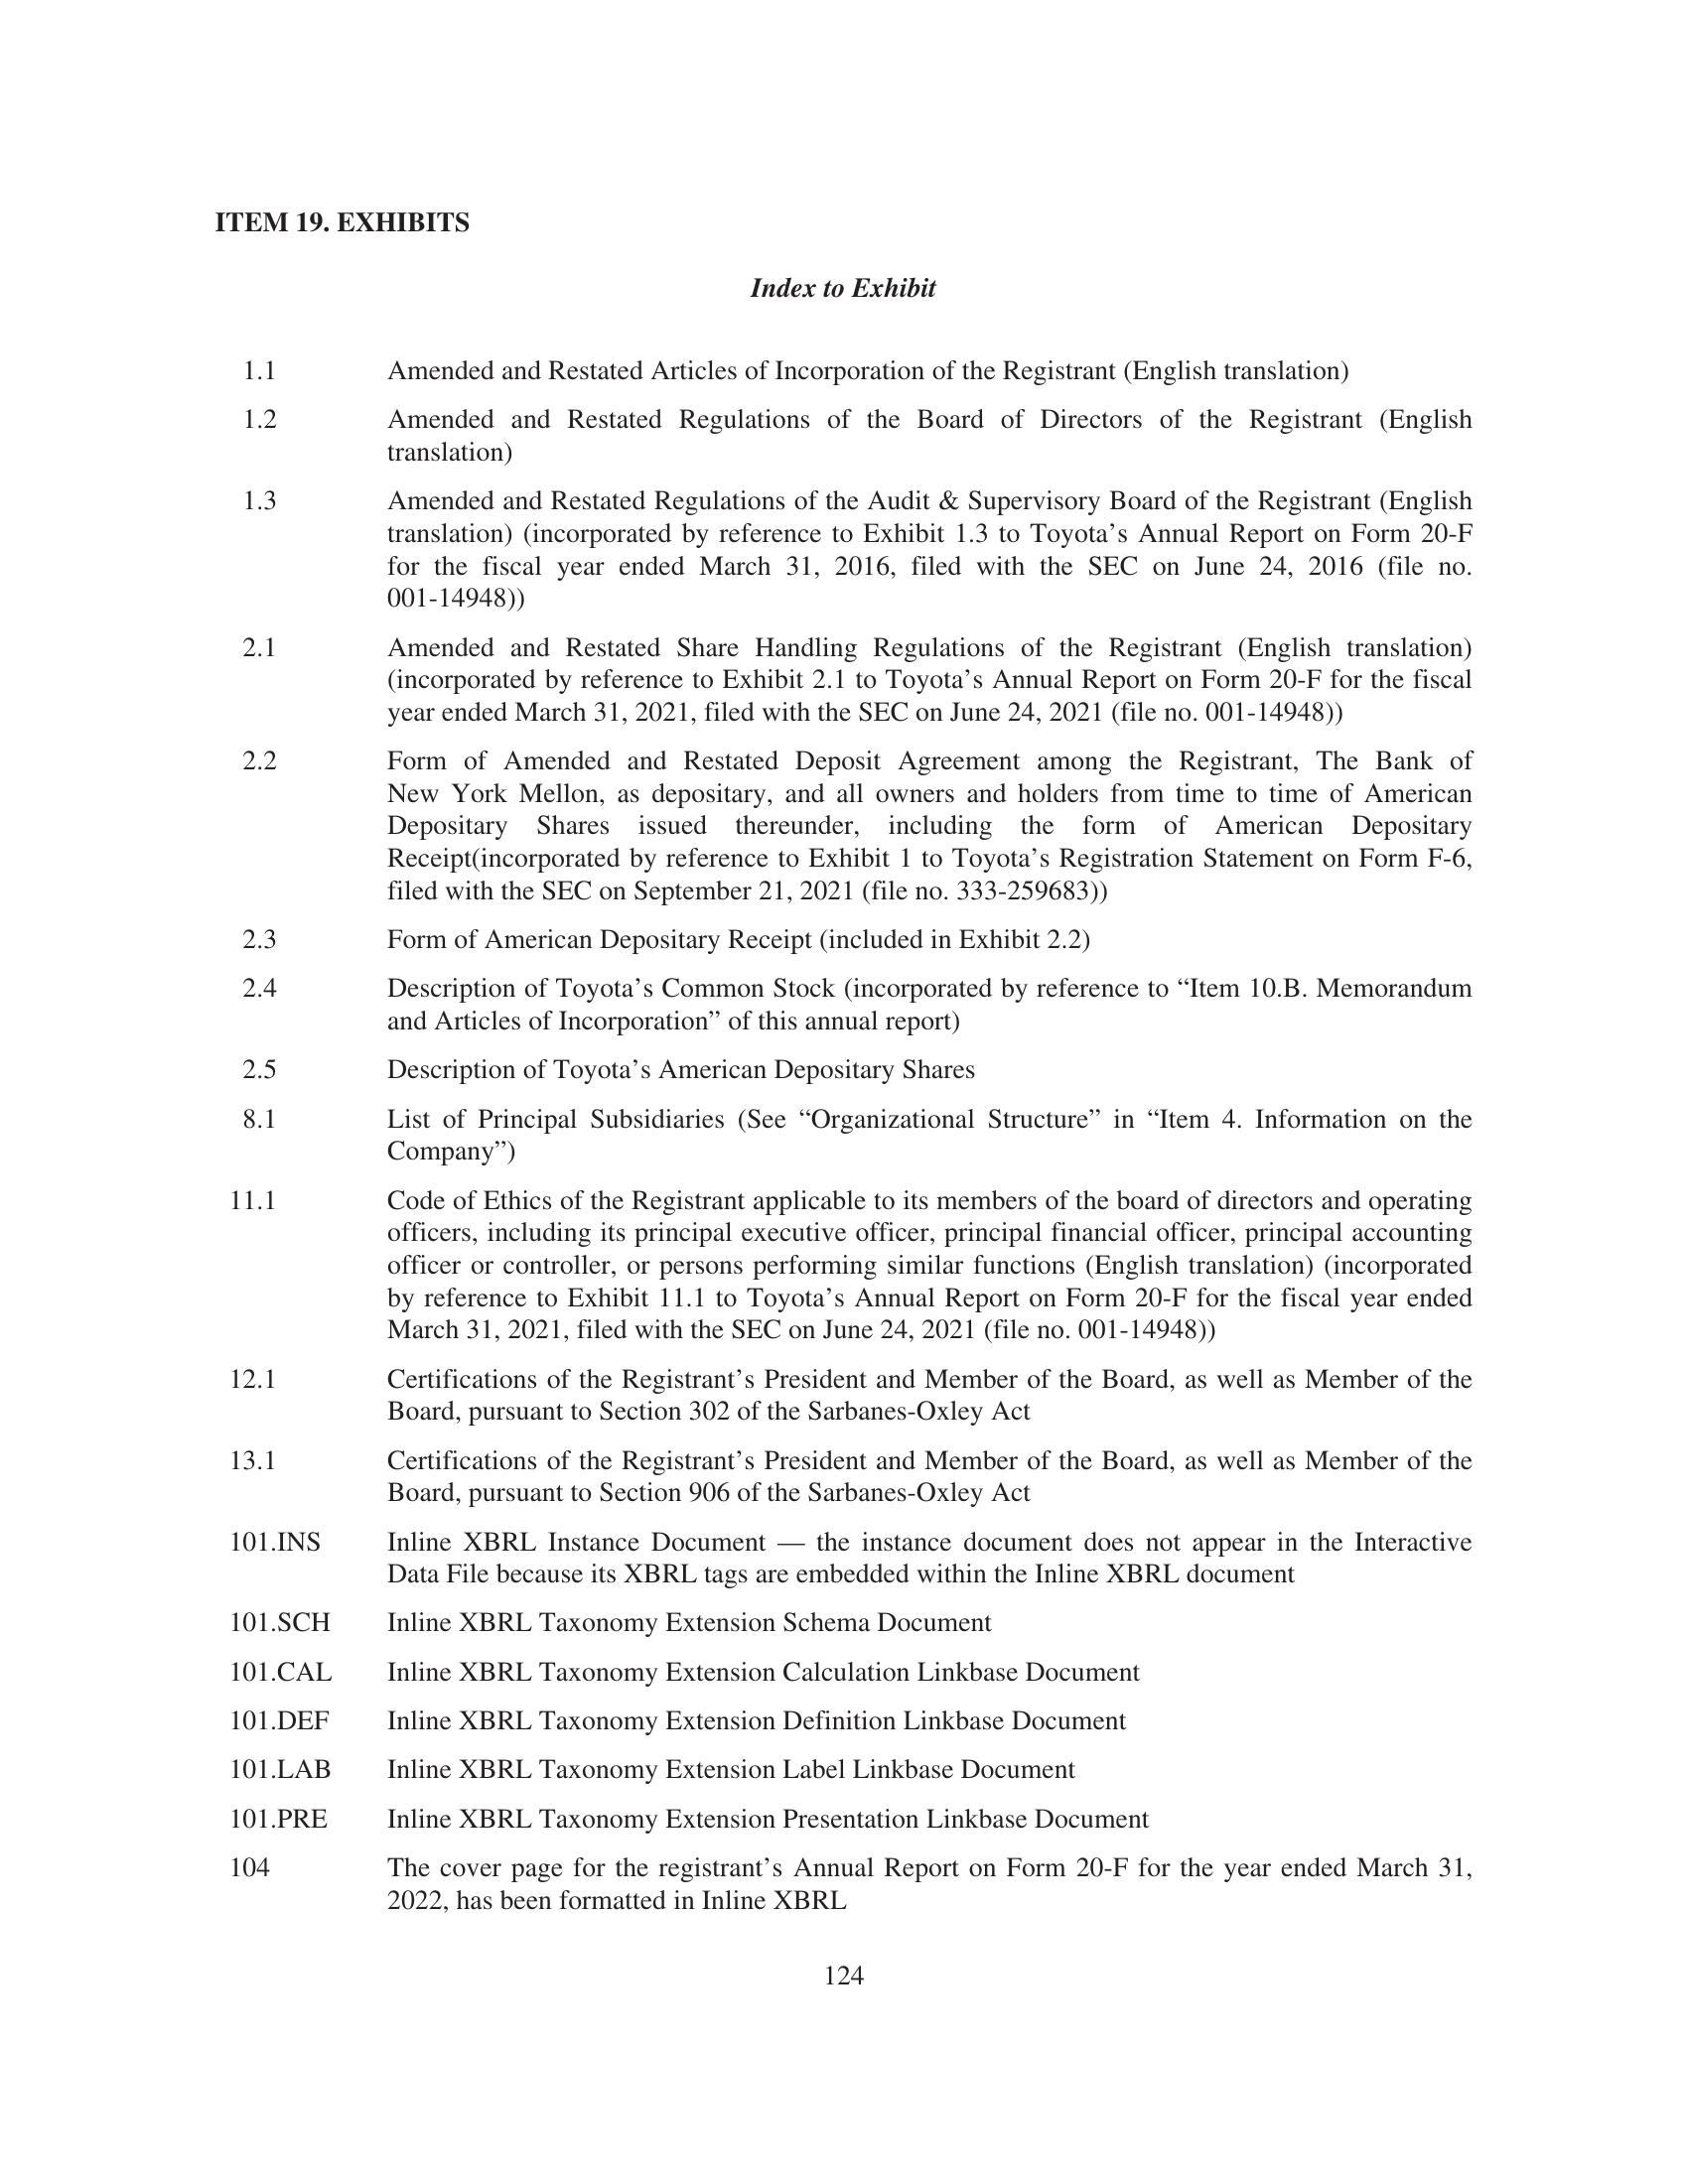Footer: (0, 1950, 1688, 2184)
Header: (0, 0, 1688, 179)
